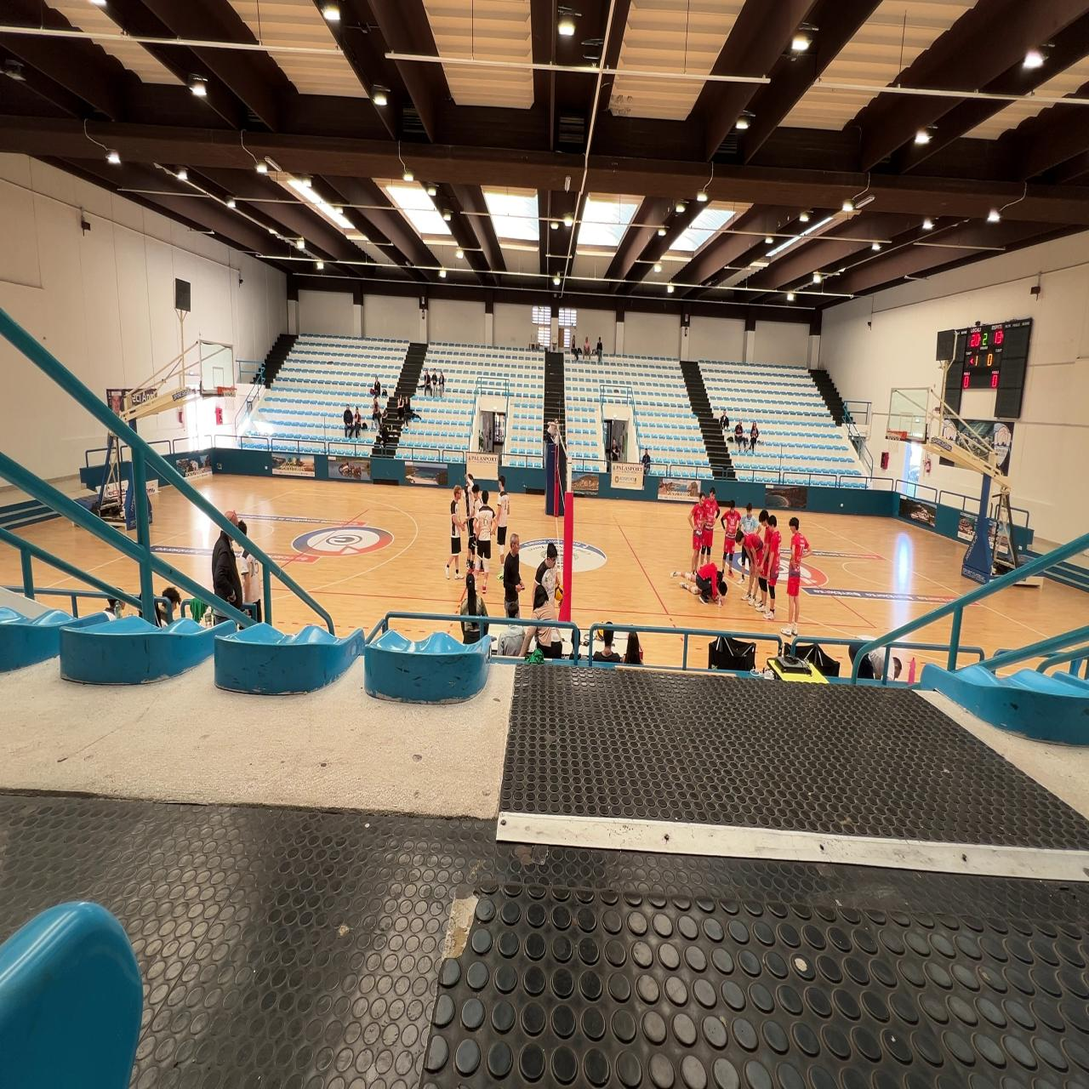ball: (554, 583, 563, 600)
